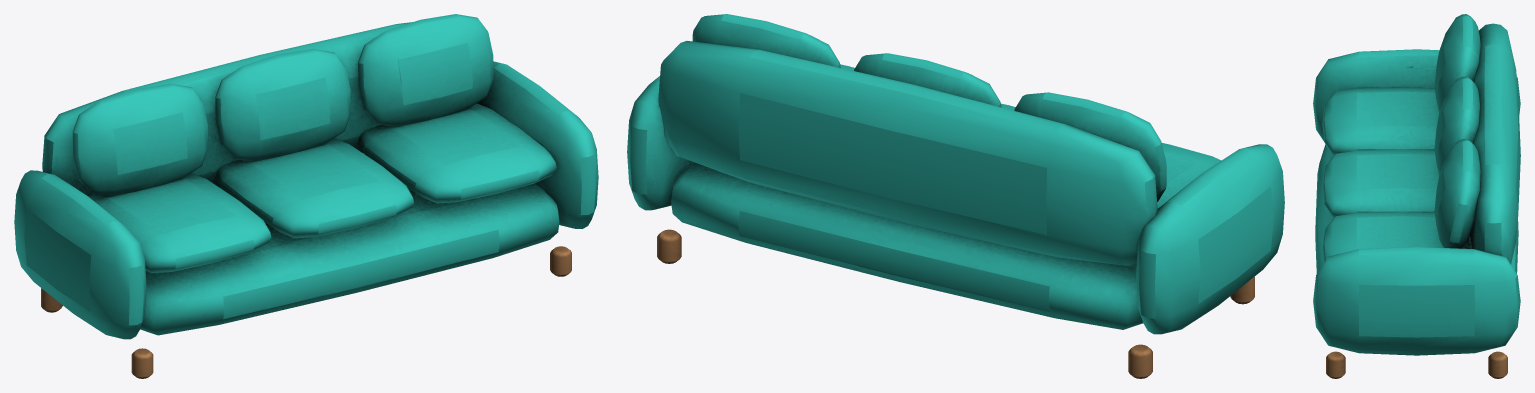
File: couch.glb
The picture shows the model from 3 angles, left to right: view 1: azimuth 30°, elevation 25°; view 2: azimuth 150°, elevation 25°; view 3: azimuth 270°, elevation 25°; orthographic projection. The views are drawn at different scales.
Visible parts, largest first — view 1: couch; view 2: couch; view 3: couch.
Boxes of the visible parts, box(x1,y1,x2,y2) form: couch: box(14, 14, 598, 378); couch: box(627, 14, 1284, 378); couch: box(1313, 14, 1520, 378).
Size of the model in its own units: 2.12 by 0.8685 by 0.8446.
2 materials, 2 textured.
